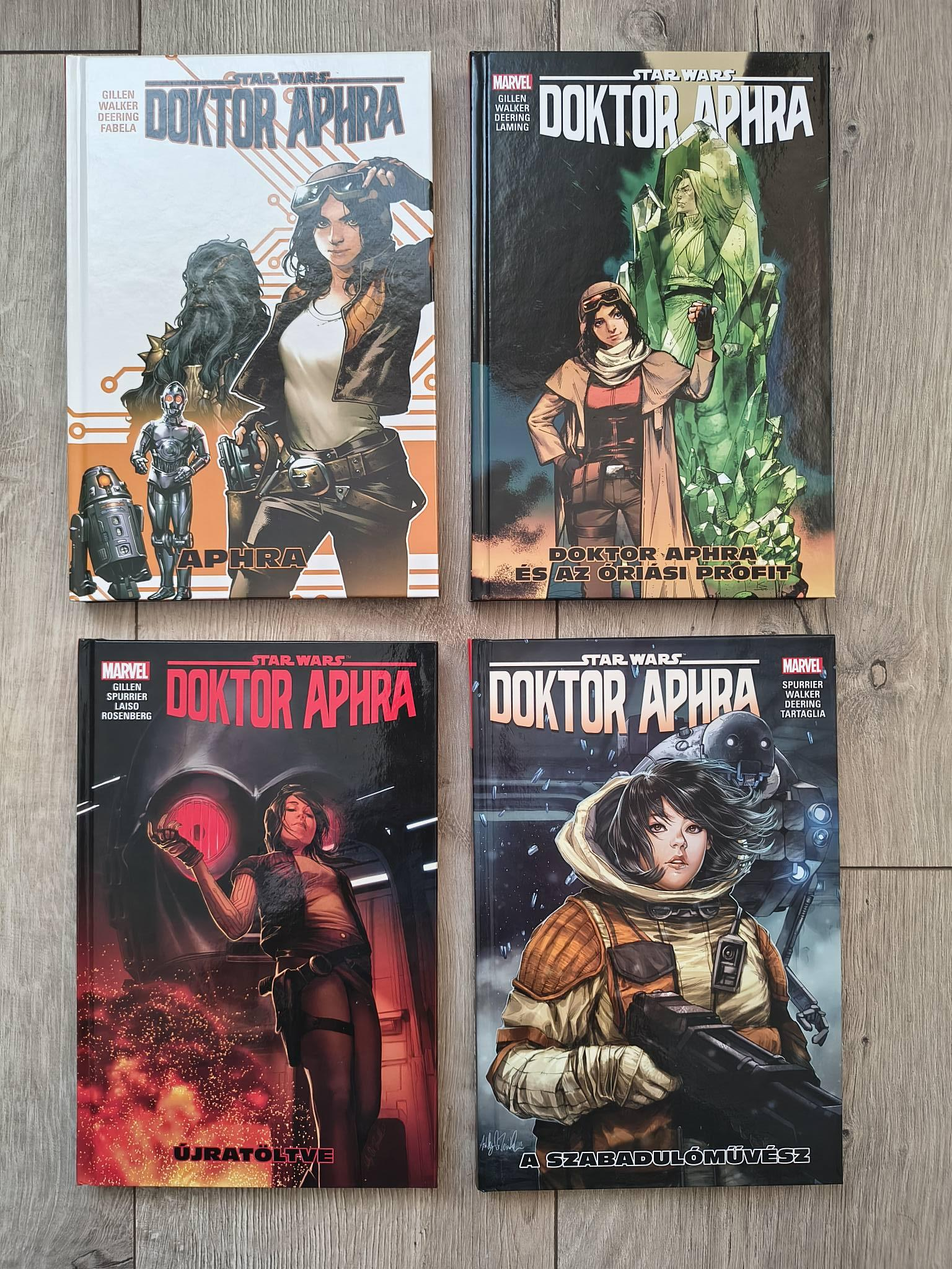comic: (61, 51, 438, 602), (470, 635, 844, 1190), (470, 51, 833, 599), (77, 640, 435, 1187)
